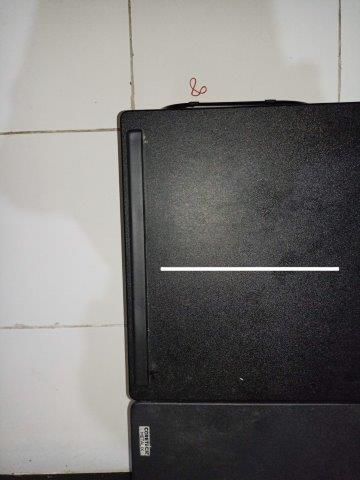karet: (189, 76, 208, 97)
sedotan: (160, 266, 339, 271)
